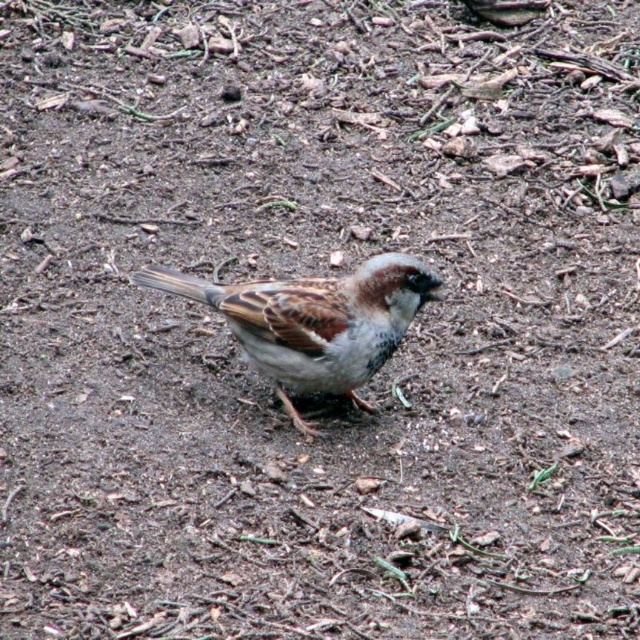Sparrow: (131, 251, 455, 447)
